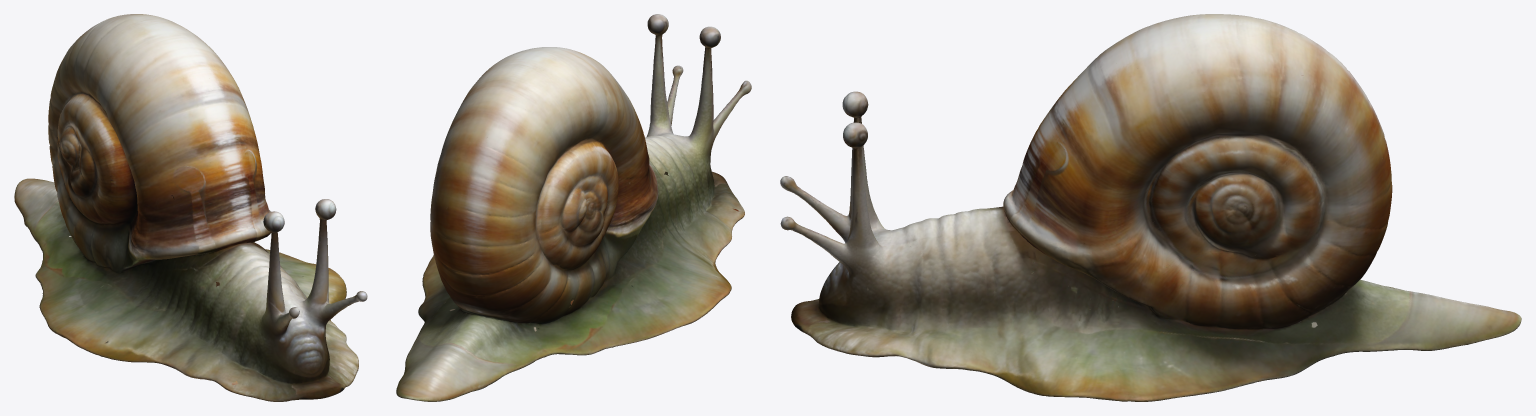
Rendered from snail.glb.
3 views of the same model, side by side, from view 1: azimuth 30°, elevation 25°; view 2: azimuth 150°, elevation 25°; view 3: azimuth 270°, elevation 25° (orthographic). The views are drawn at different scales.
Size of the model in its own units: 1.03 by 0.9148 by 2.
1 material, 1 textured.
